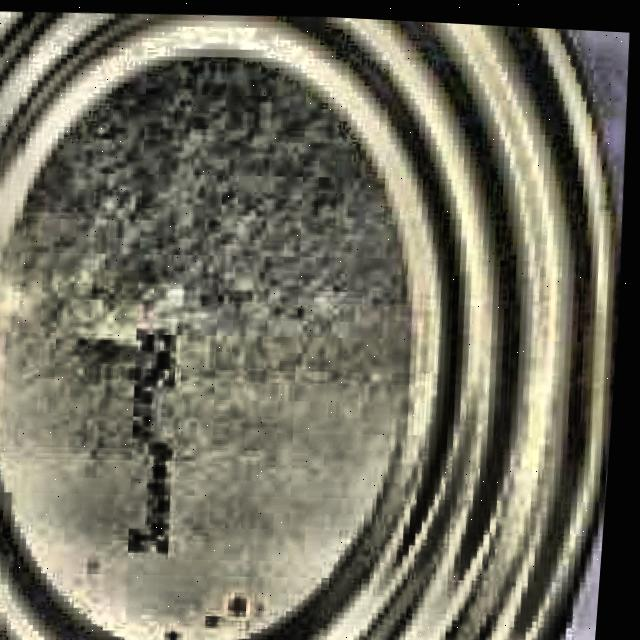metal: (0, 11, 625, 640)
